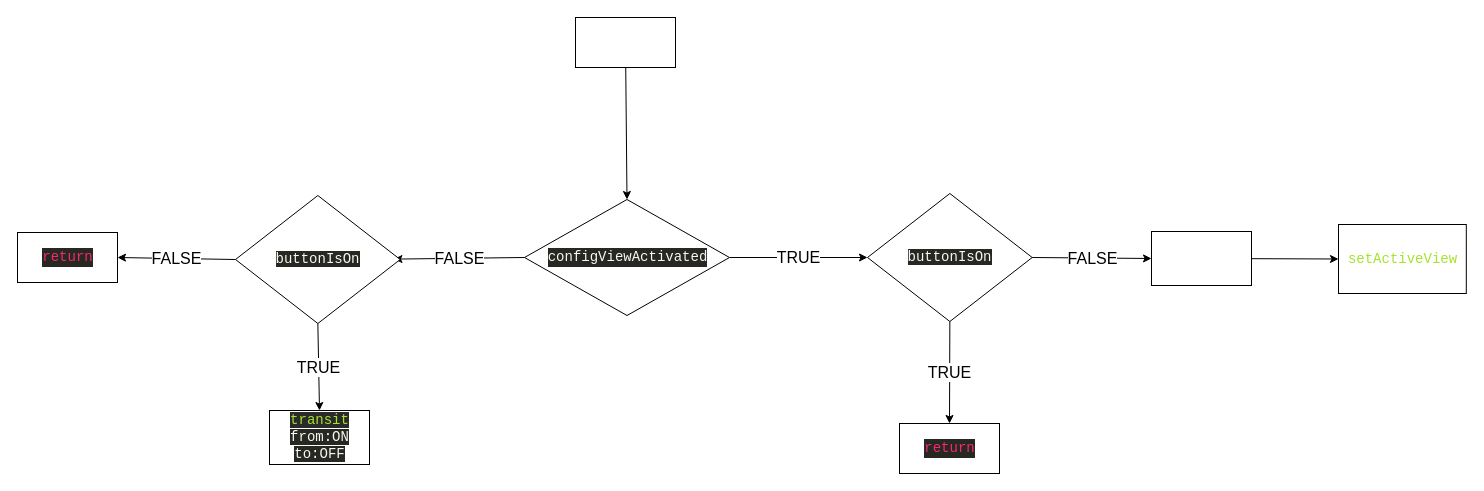
The diagram is 1484 pixels wide and 491 high, and some of its shapes have lost their labels. The centre of each missing label's shape, as x and y in pixels:
onClick (): the point at 625,42
transit from:OFF to:ON: the point at 1201,258
